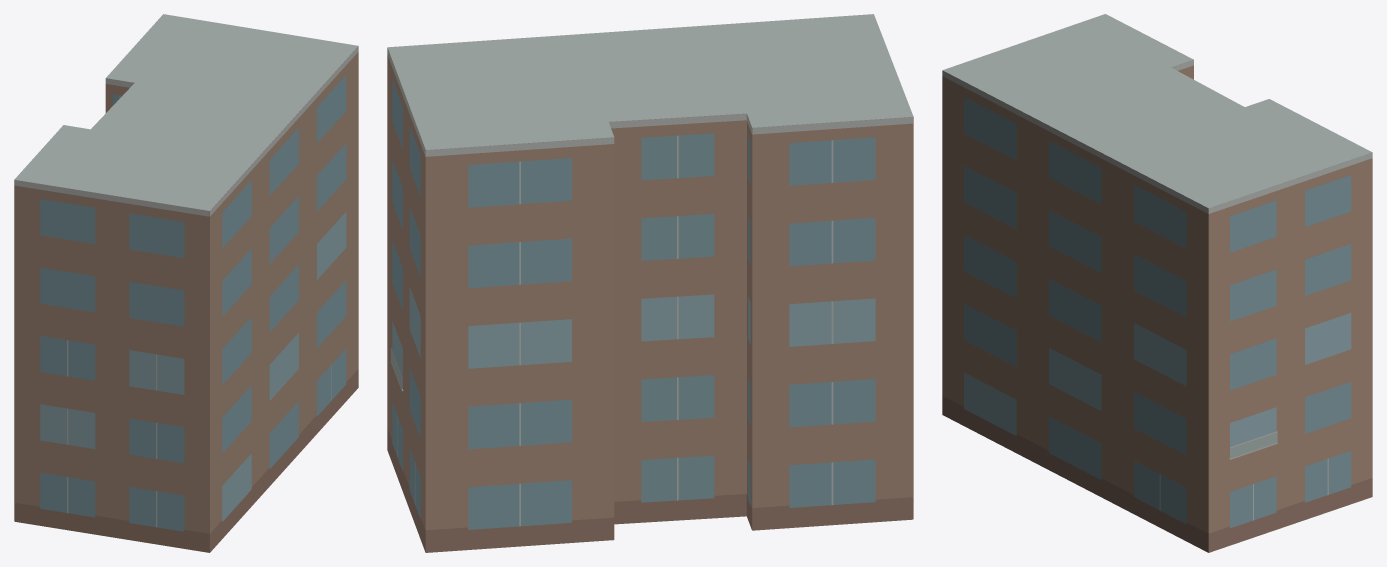
Rendered from survey-upis-32746043.glb.
3 views of the same model, side by side, from view 1: azimuth 30°, elevation 25°; view 2: azimuth 150°, elevation 25°; view 3: azimuth 270°, elevation 25° (orthographic). The views are drawn at different scales.
Parts seen in each view (by area): view 1: survey-upis-32746043.tmp; view 2: survey-upis-32746043.tmp; view 3: survey-upis-32746043.tmp.
Boxes of the visible parts, <box> form: survey-upis-32746043.tmp: <box>14,14,358,552</box>; survey-upis-32746043.tmp: <box>387,14,913,552</box>; survey-upis-32746043.tmp: <box>942,14,1372,552</box>.
Size of the model in its own units: 17.62 by 14.56 by 16.49.
